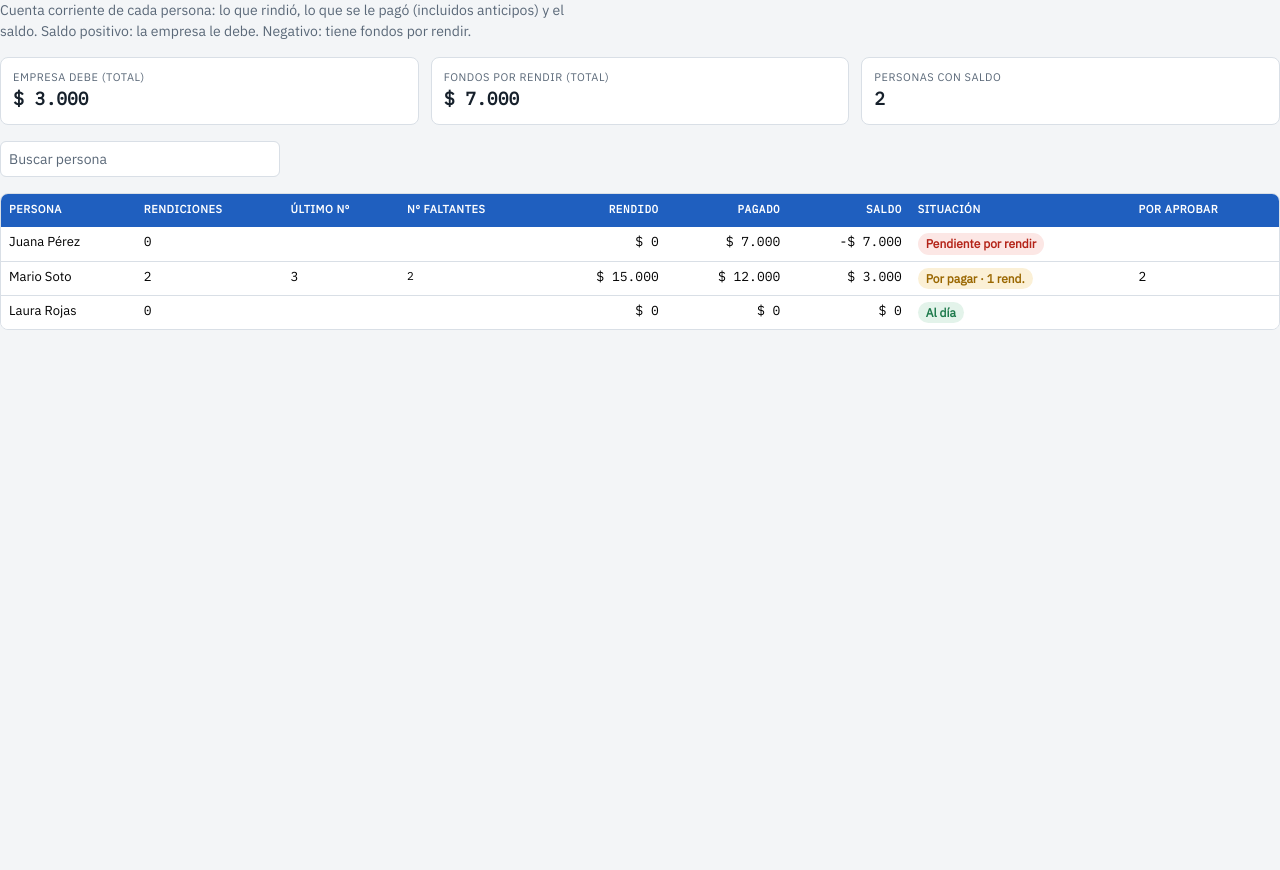
Test: PersonasView › detalle: movimientos con saldo acumulado; los de cartola no se eliminan
The width and height of the screenshot is (1280, 870).
Click the row that starts with "Mario Soto" at (640, 278), box [1,261,1279,296]
(page scrolled)
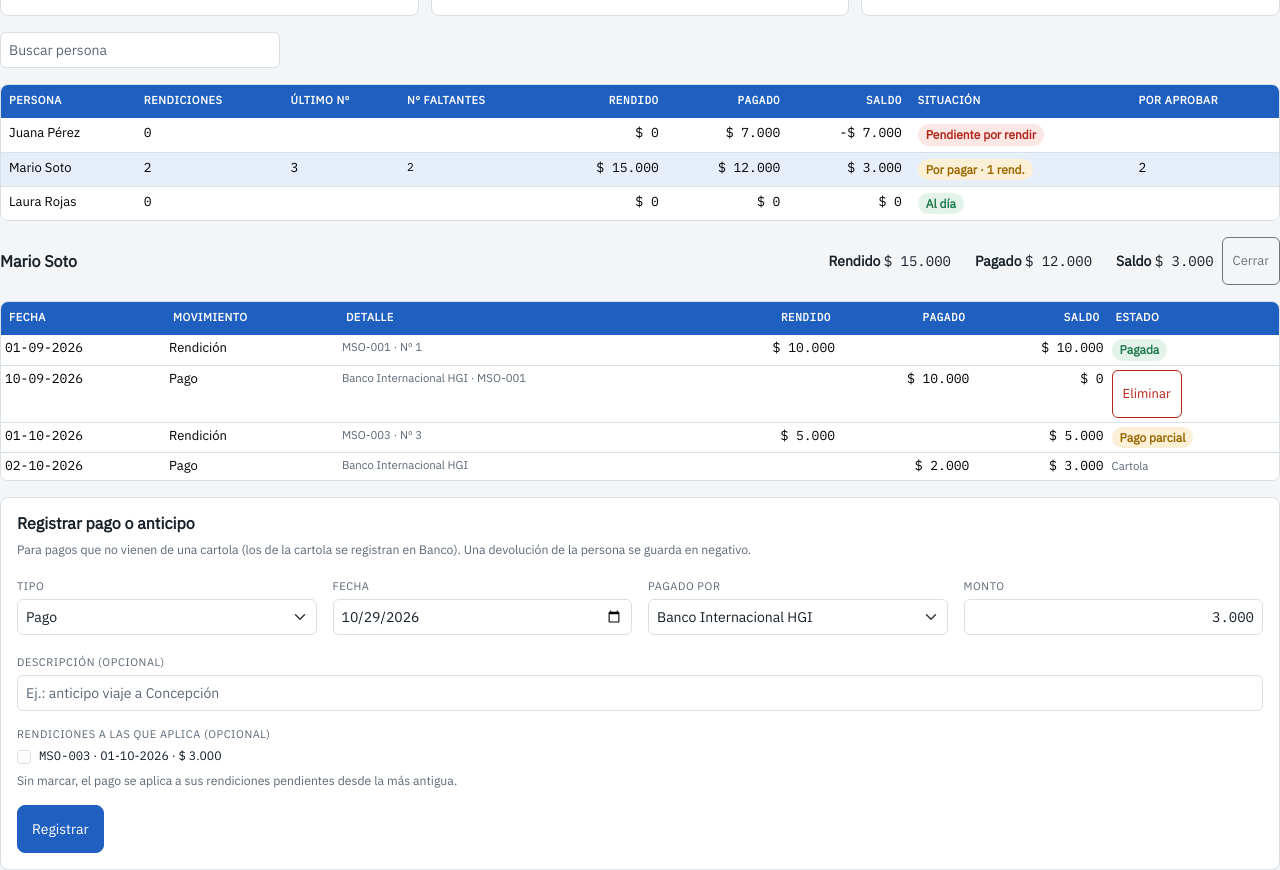
Now the element with id "detalle-persona" shows "Cartola", box [1112,458,1148,473]
